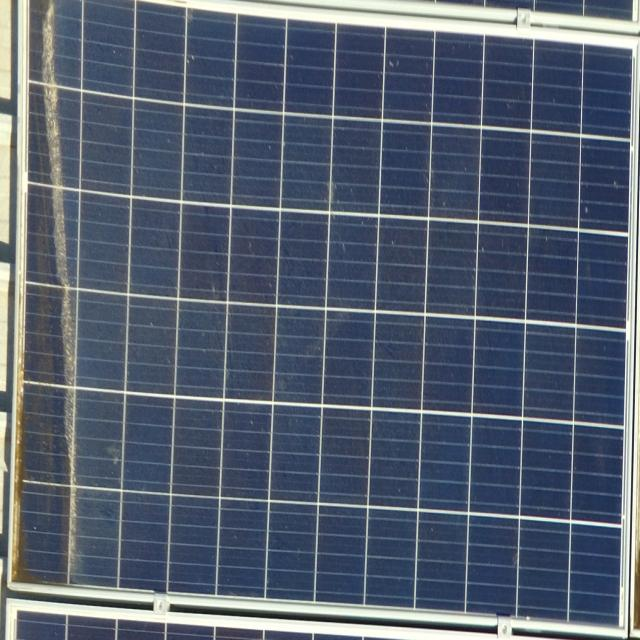Dust: (17, 6, 86, 640)
bird-droppings: (106, 447, 123, 473), (388, 50, 402, 79), (184, 50, 196, 70), (582, 201, 590, 219), (478, 242, 487, 256)
